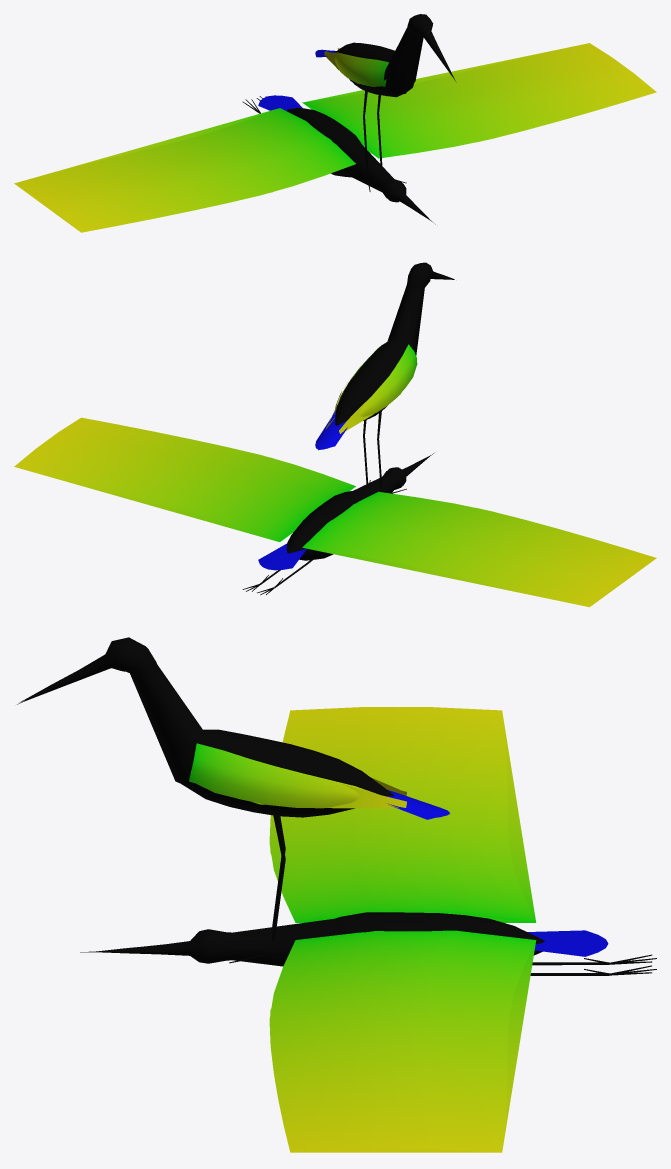
Rendered from stork.glb.
3 views of the same model, one above another, from view 1: azimuth 30°, elevation 25°; view 2: azimuth 150°, elevation 25°; view 3: azimuth 270°, elevation 25° (orthographic). The views are drawn at different scales.
Visible parts, largest first — view 1: fly0, stand0, fly1, stand1, fly2; view 2: fly0, stand0, stand1, fly2, fly1; view 3: fly0, stand0, stand1, fly1, fly2.
Part boxes in pixels (x1=…): fly0: x1=14, y1=43, x2=656, y2=232; stand0: x1=315, y1=14, x2=454, y2=191; fly1: x1=16, y1=69, x2=480, y2=230; stand1: x1=316, y1=28, x2=456, y2=170; fly2: x1=19, y1=45, x2=579, y2=226; fly0: x1=14, y1=417, x2=656, y2=607; stand0: x1=315, y1=262, x2=454, y2=493; stand1: x1=318, y1=274, x2=454, y2=487; fly2: x1=23, y1=453, x2=650, y2=605; fly1: x1=131, y1=457, x2=654, y2=602; fly0: x1=96, y1=707, x2=656, y2=1152; stand0: x1=20, y1=637, x2=449, y2=963; stand1: x1=17, y1=654, x2=449, y2=940; fly1: x1=92, y1=787, x2=609, y2=1152; fly2: x1=80, y1=712, x2=536, y2=1152.
Size of the model in its own units: 2 by 0.7292 by 1.23.
